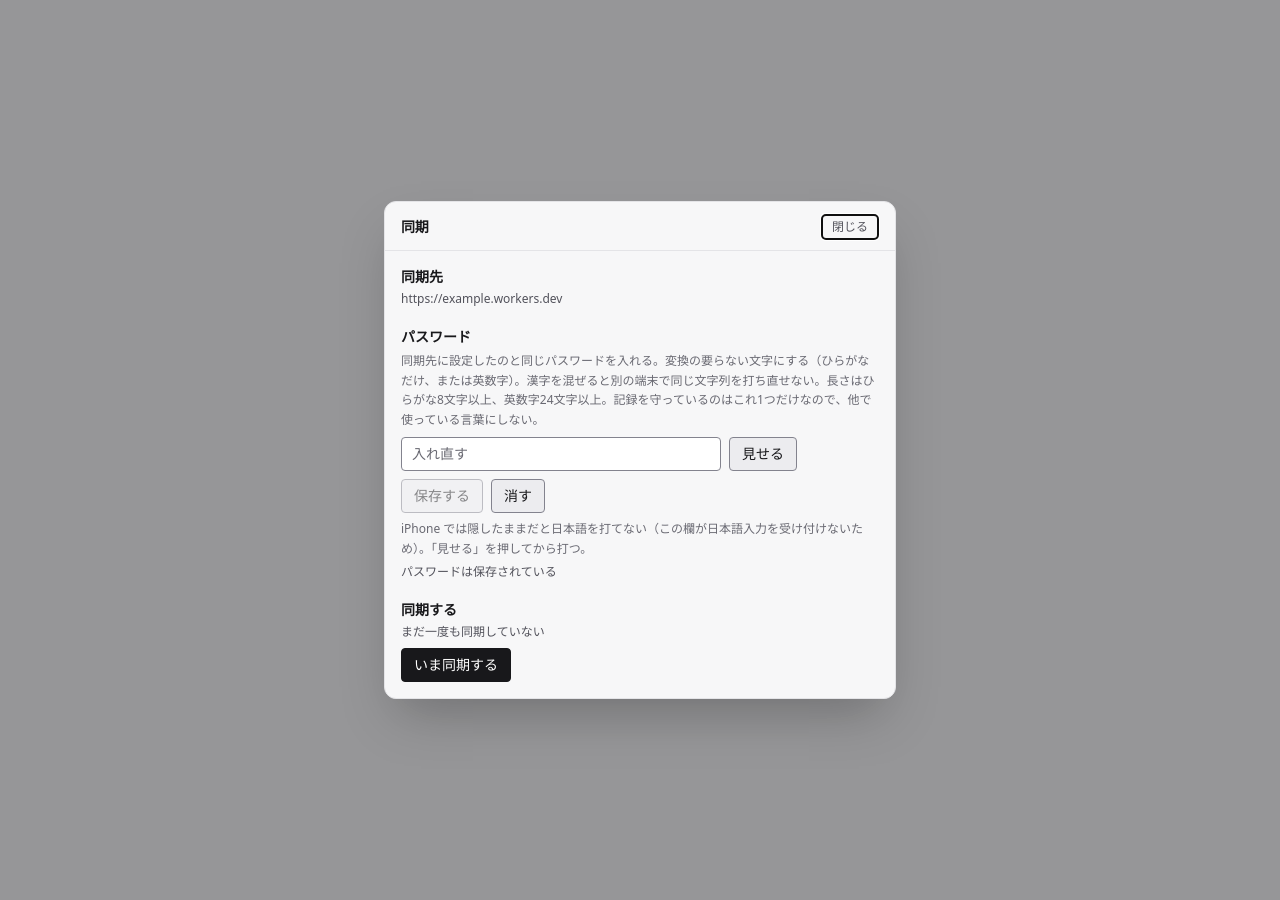
Scenario: 同期の結果 › 件数を出す(0件でも出す)
Click the button "いま同期する".
click(456, 665)  # box [401,648,511,682]
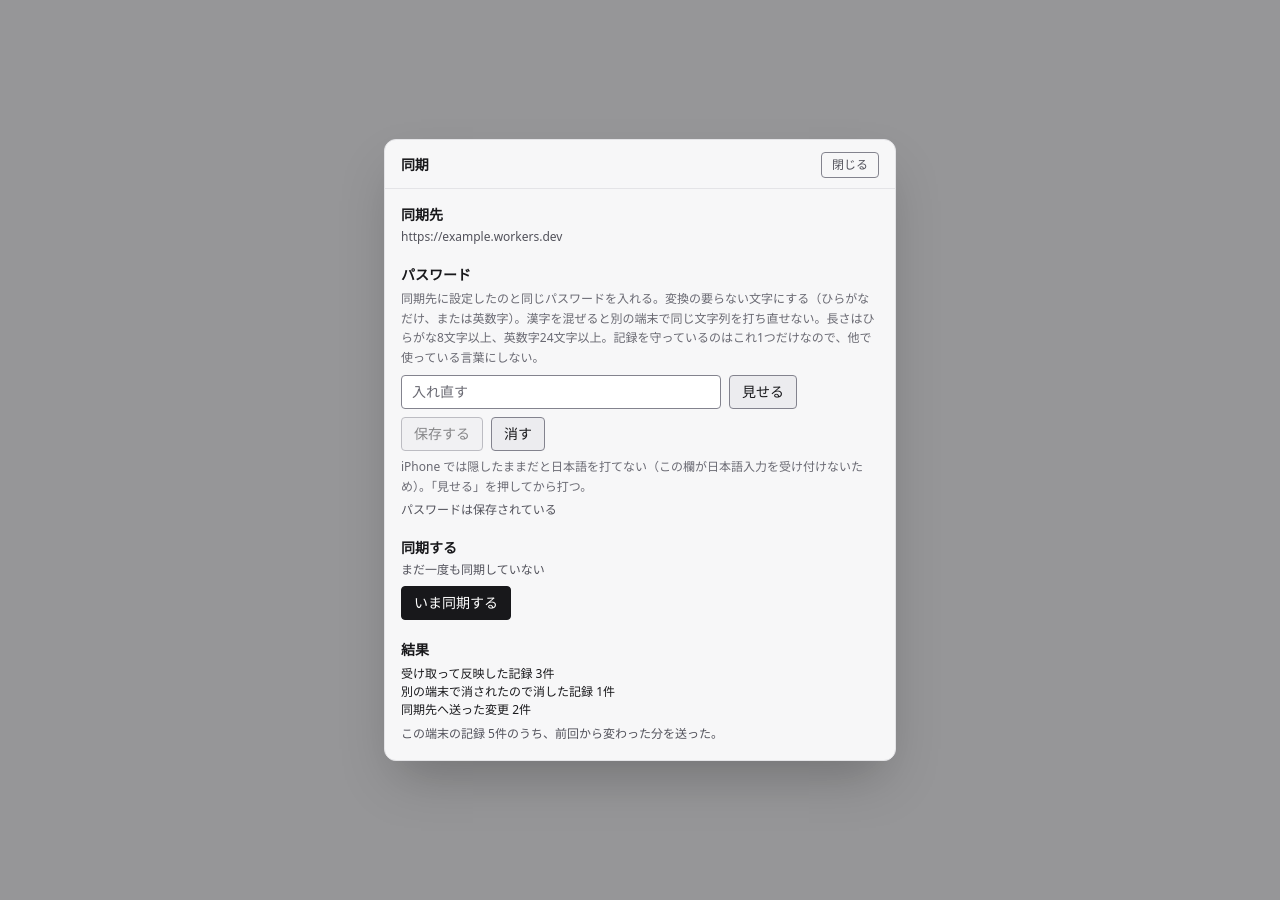
Expected: the list item "受け取って反映した記録 3件" is shown, [401,665,554,682]
Expected: the list item "別の端末で消されたので消した記録 1件" is shown, [401,683,615,700]
Expected: the list item "同期先へ送った変更 2件" is shown, [401,701,531,718]
